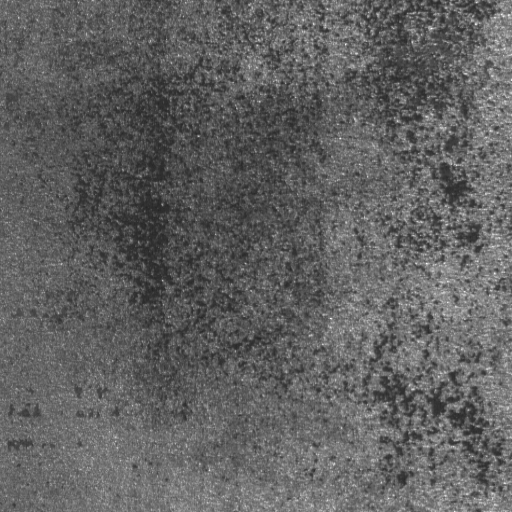xingxingliewen: (364, 334, 507, 491)
